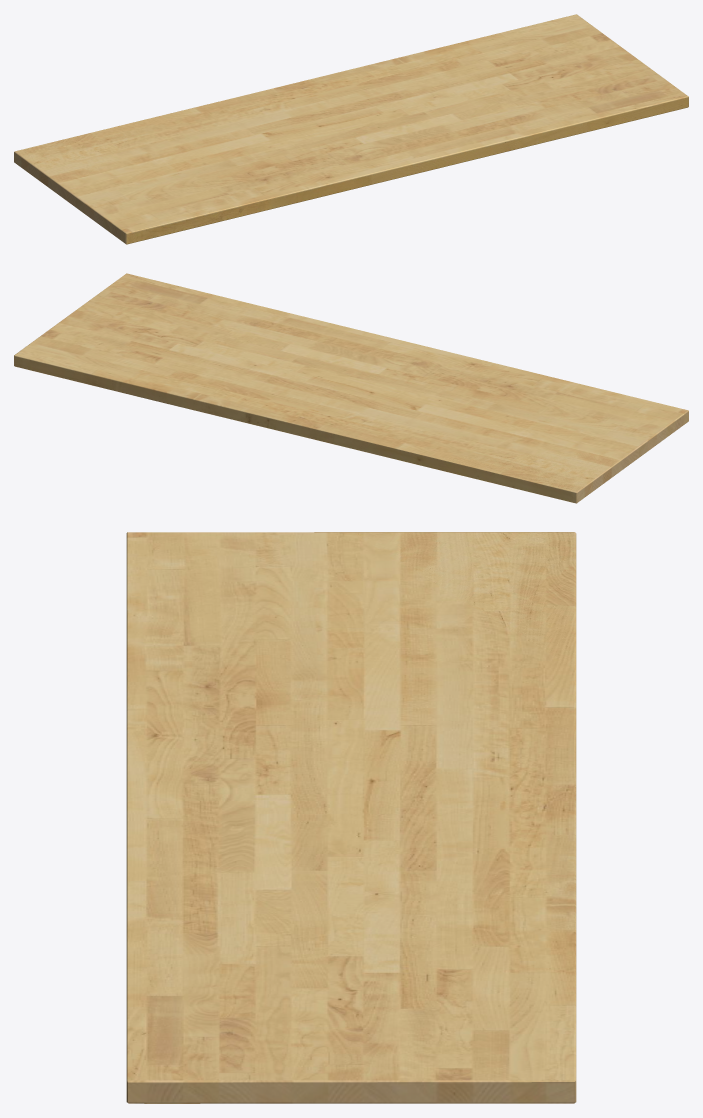
The model's file is KARLBY_90335206.glb.
The picture shows the model from 3 angles, top to bottom: view 1: azimuth 30°, elevation 25°; view 2: azimuth 150°, elevation 25°; view 3: azimuth 270°, elevation 25°; orthographic projection. The views are drawn at different scales.
Parts seen in each view (by area): view 1: model; view 2: model; view 3: model.
Boxes of the visible parts, x1=… form: model: x1=14, y1=14, x2=688, y2=244; model: x1=14, y1=273, x2=688, y2=503; model: x1=126, y1=532, x2=576, y2=1103.
Bounding box in the file's own units: 1.88 × 0.0373 × 0.6501.
1 material, 1 textured.
